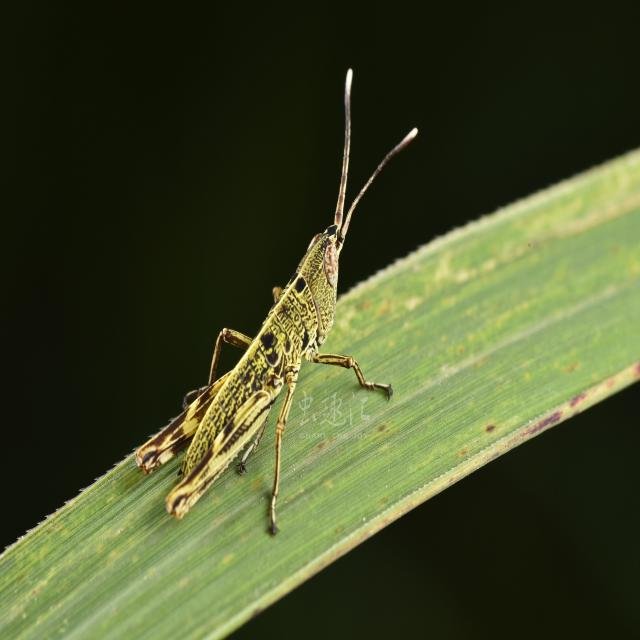ZhaMeng: (137, 62, 419, 538)
